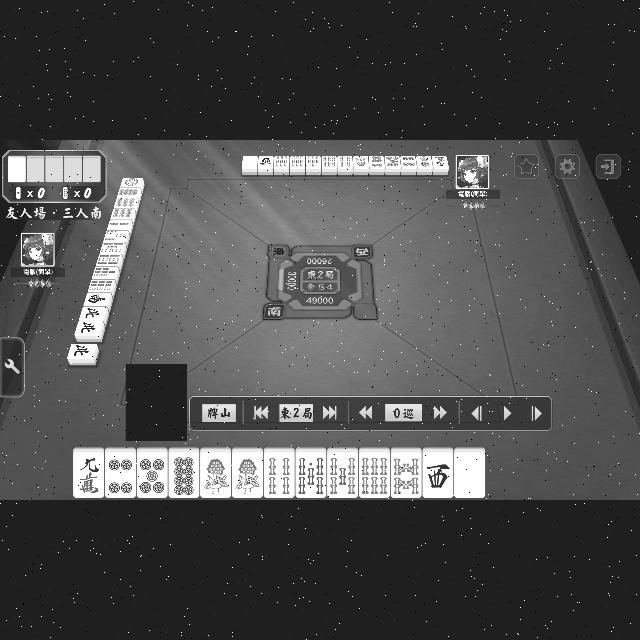1p: (120, 177, 144, 189)
1s: (201, 454, 231, 498), (233, 454, 263, 498), (353, 154, 369, 176)
2p: (416, 154, 432, 176)
2s: (106, 218, 134, 232)
3s: (104, 230, 130, 243)
4p: (104, 453, 136, 497), (400, 153, 416, 174)
4s: (264, 450, 294, 498), (336, 154, 354, 176)
5p: (138, 451, 168, 497), (385, 156, 401, 177)
5s: (329, 452, 359, 498), (298, 453, 326, 497), (99, 242, 127, 255)
6p: (368, 154, 384, 178)
6s: (359, 452, 389, 498), (321, 154, 337, 178), (96, 254, 124, 266)
7s: (93, 266, 119, 280), (305, 154, 321, 176)
8p: (170, 453, 198, 497), (118, 188, 142, 198)
8s: (392, 452, 422, 498)
9m: (73, 452, 103, 498), (432, 154, 448, 176)
9p: (110, 208, 138, 220), (115, 198, 139, 208)
9s: (88, 278, 115, 296), (274, 154, 290, 176), (291, 156, 305, 176)
haku: (455, 452, 485, 498), (6, 156, 28, 182), (242, 156, 258, 174)
nan: (85, 292, 113, 308)
pe: (68, 344, 99, 366), (73, 320, 105, 340), (82, 305, 108, 321)
sha: (423, 451, 453, 497), (258, 156, 272, 177)
